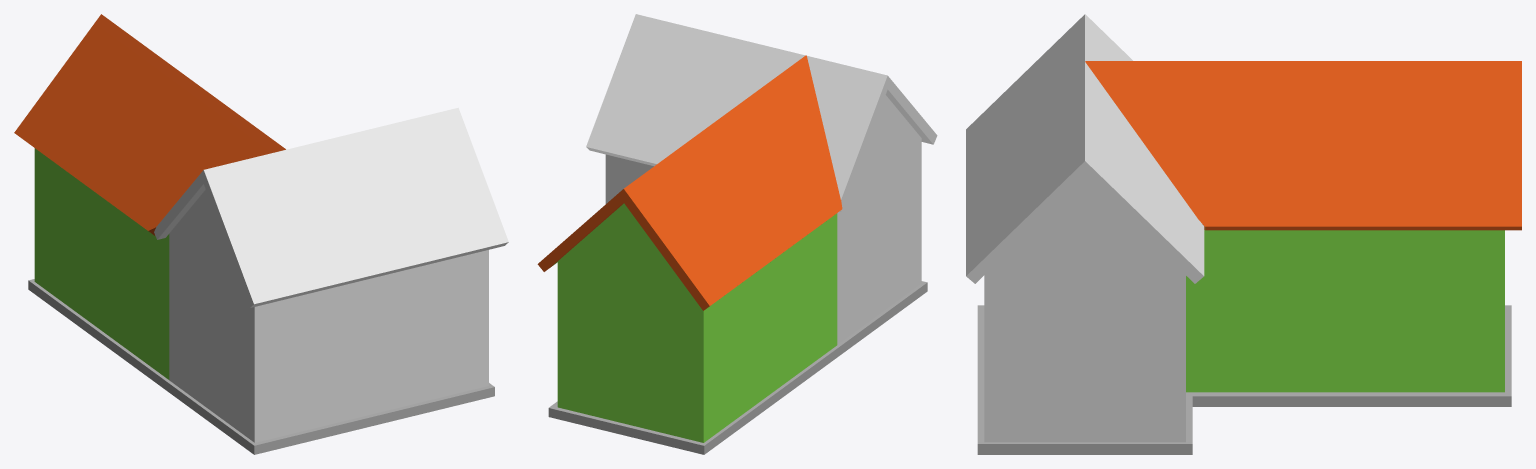
The model's file is Dom_2 1.fbx.
3 renders of one model, left to right at view 1: azimuth 30°, elevation 25°; view 2: azimuth 150°, elevation 25°; view 3: azimuth 270°, elevation 25°, orthographic. The views are drawn at different scales.
Visible parts, largest first — view 1: Cube, Cube.004, Plane, Plane.001; view 2: Cube.004, Cube, Plane.001, Plane; view 3: Cube.004, Cube, Plane.001, Plane.
Boxes of the visible parts, x1,y1,x2,y2 form: Cube: (154, 107, 508, 442); Cube.004: (14, 14, 285, 379); Plane: (163, 379, 494, 454); Plane.001: (28, 279, 169, 387); Cube.004: (537, 55, 842, 442); Cube: (586, 14, 937, 344); Plane.001: (548, 344, 840, 454); Plane: (837, 281, 927, 356); Cube.004: (1085, 61, 1521, 392); Cube: (966, 14, 1204, 442); Plane.001: (1186, 305, 1511, 406); Plane: (977, 305, 1192, 454).
Size of the model in its own units: 631 by 590 by 989.
